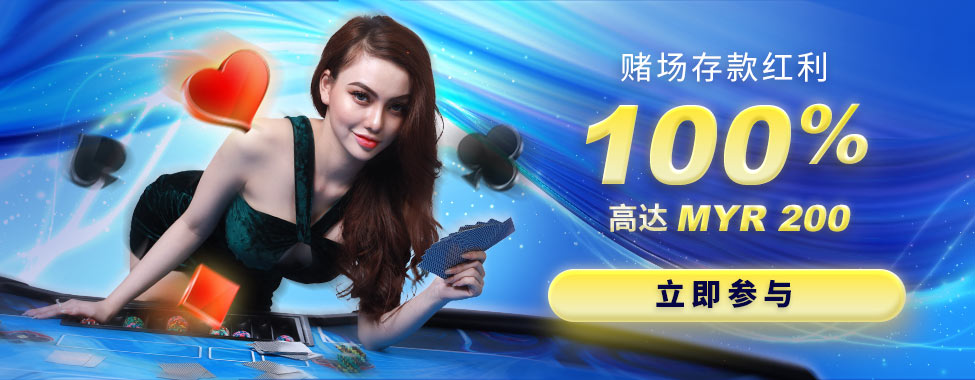2: (777, 203, 803, 234)
M: (676, 202, 712, 234)
R: (739, 202, 768, 234)
Y: (711, 201, 742, 235)
利: (796, 50, 831, 84)
即: (691, 279, 723, 311)
參CN: (726, 277, 757, 313)
場CN: (655, 51, 688, 84)
存: (689, 51, 725, 84)
款: (723, 51, 761, 83)
立: (653, 276, 687, 311)
紅CN: (759, 52, 795, 84)
與CN: (762, 277, 796, 311)
賭CN: (618, 49, 652, 84)
達CN: (637, 202, 670, 236)
高: (607, 202, 637, 234)
